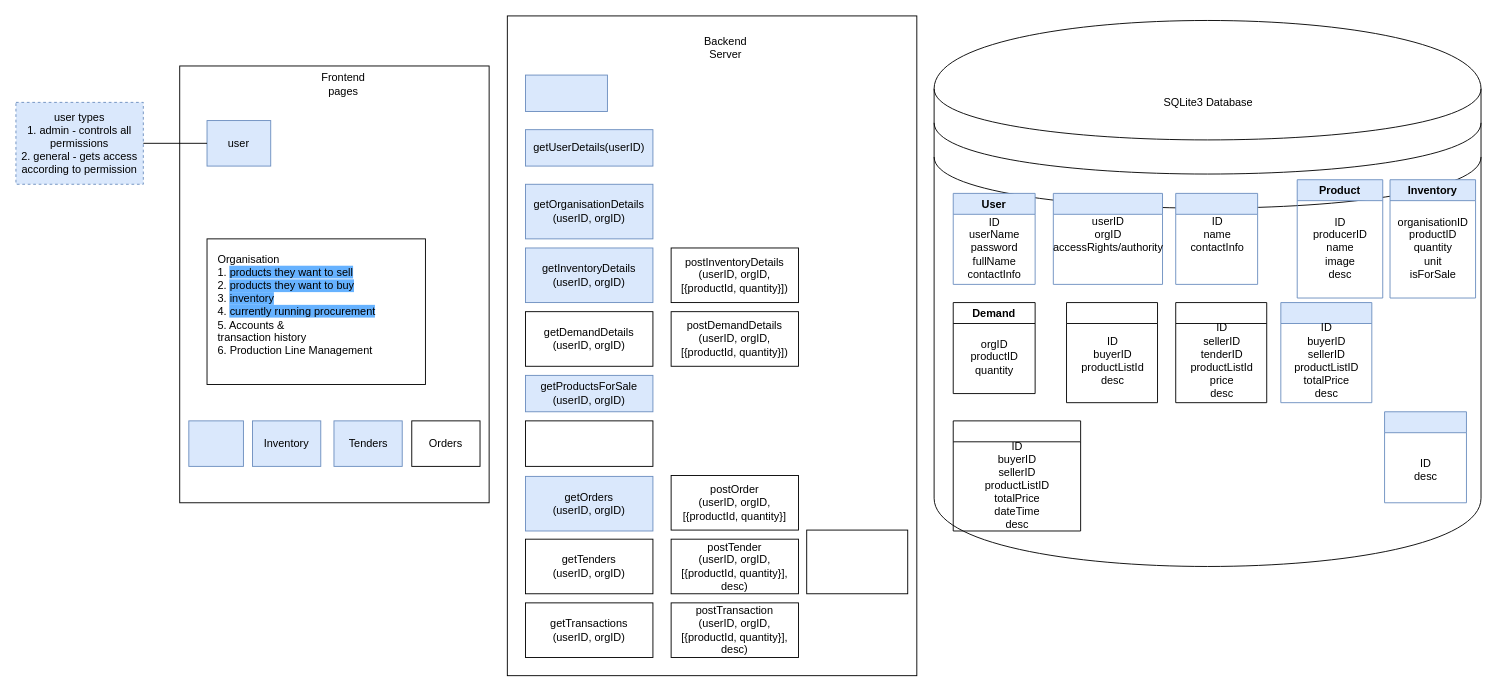
Image size: 1497x692. Some labels were removed from this diagram. The shapes that lost their labels are listed below. From the top down, each one's box as (x1, y1, x2, y2) in pixels, then its label:
(525, 74, 607, 111): User Authentication
(1052, 192, 1163, 284): UserOrganisation
(1175, 192, 1258, 284): Organisation
(1066, 302, 1158, 403): Tender
(1175, 302, 1267, 403): TenderBid
(1280, 302, 1372, 403): Order
(188, 420, 243, 466): Products
(525, 420, 653, 466): getAllProductsForSale (userID)
(1384, 411, 1466, 503): ProductList
(952, 420, 1081, 531): Transaction
(806, 529, 908, 594): postBid (userID, orgID, [{productId, quantity}], totalPrice, desc)
